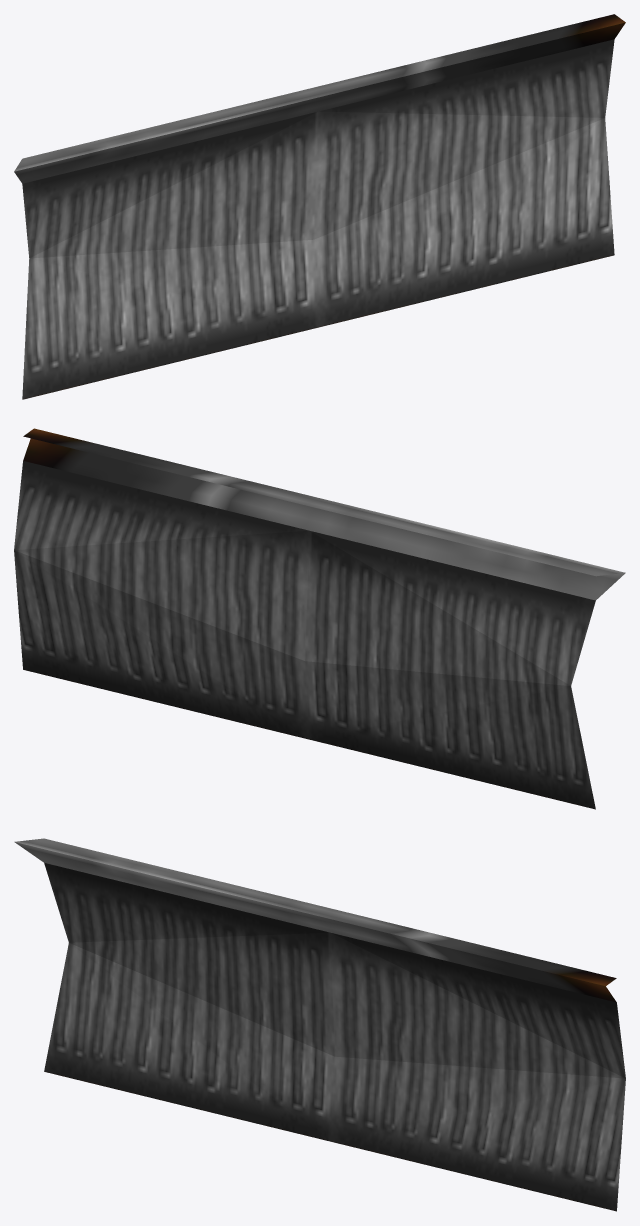
File: W_A2l_xxxx [Wellblech]_806.glb
The picture shows the model from 3 angles, top to bottom: view 1: azimuth 30°, elevation 25°; view 2: azimuth 150°, elevation 25°; view 3: azimuth 330°, elevation 25°; orthographic projection. The views are drawn at different scales.
Parts seen in each view (by area): view 1: polySurfaceShape787, polySurfaceShape1065; view 2: polySurfaceShape787, polySurfaceShape1065; view 3: polySurfaceShape787, polySurfaceShape1065.
Part boxes in pixels (x1,y1,x2,y2): polySurfaceShape787: (22, 39, 614, 399); polySurfaceShape1065: (14, 14, 625, 183); polySurfaceShape787: (14, 461, 595, 809); polySurfaceShape1065: (23, 428, 625, 600); polySurfaceShape787: (44, 863, 625, 1211); polySurfaceShape1065: (14, 838, 616, 1002).
Bounding box in the file's own units: 1.03 × 0.3891 × 0.0607.
2 materials, 2 textured.
